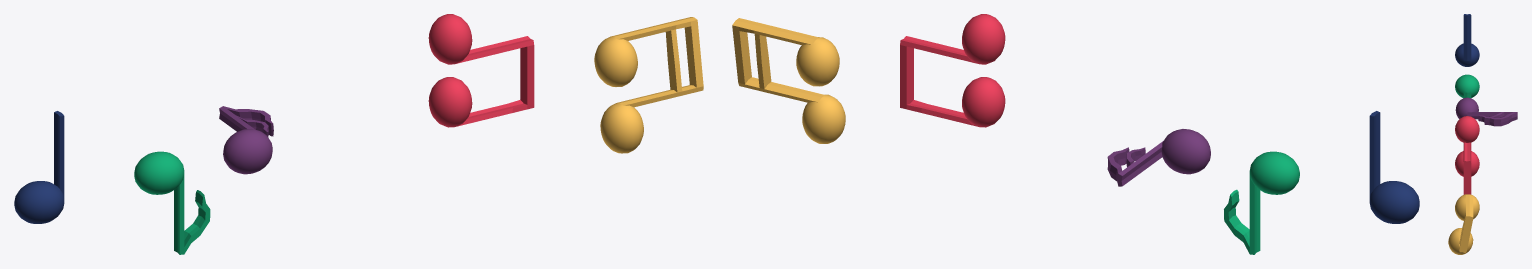
The model's file is Music Notes Very Final 2.FBX.
The picture shows the model from 3 angles, left to right: view 1: azimuth 30°, elevation 25°; view 2: azimuth 150°, elevation 25°; view 3: azimuth 270°, elevation 25°; orthographic projection. The views are drawn at different scales.
Visible parts, largest first — view 1: Sphere005, Sphere002, Sphere004, Sphere006, Sphere003; view 2: Sphere005, Sphere002, Sphere004, Sphere006, Sphere003; view 3: Sphere002, Sphere005, Sphere006, Sphere003, Sphere004.
Part boxes in pixels (x1,y1,x2,y2): Sphere005: [594, 17, 703, 153]; Sphere002: [428, 14, 534, 127]; Sphere004: [134, 151, 210, 254]; Sphere006: [219, 106, 273, 174]; Sphere003: [14, 111, 64, 223]; Sphere005: [732, 18, 845, 143]; Sphere002: [900, 14, 1005, 127]; Sphere004: [1224, 151, 1299, 254]; Sphere006: [1107, 129, 1210, 186]; Sphere003: [1369, 111, 1419, 223]; Sphere002: [1455, 116, 1479, 194]; Sphere005: [1448, 194, 1479, 254]; Sphere006: [1455, 97, 1517, 126]; Sphere003: [1455, 14, 1479, 66]; Sphere004: [1455, 74, 1479, 97].
Size of the model in its own units: 60.19 by 14.55 by 9.78.
5 materials, 5 textured.
